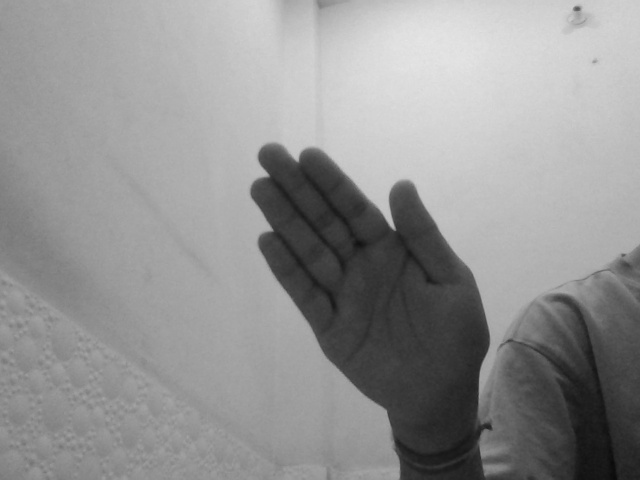Hello: (246, 138, 492, 438)
